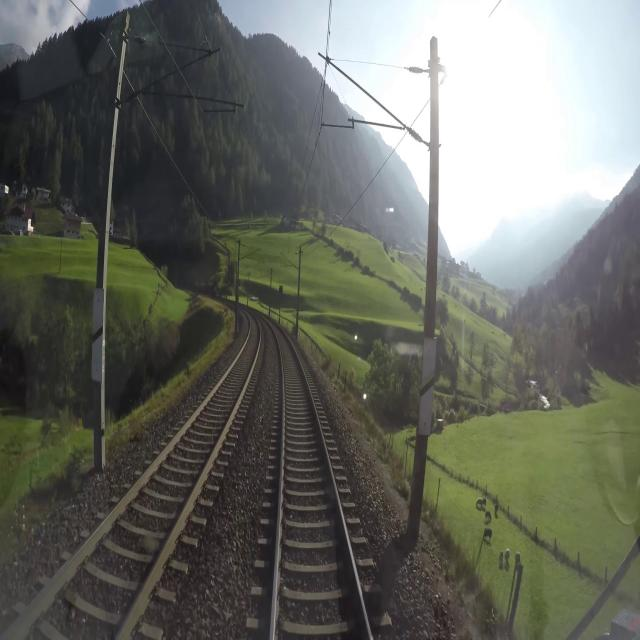rail-track: (5, 315, 258, 639), (269, 321, 368, 639)
